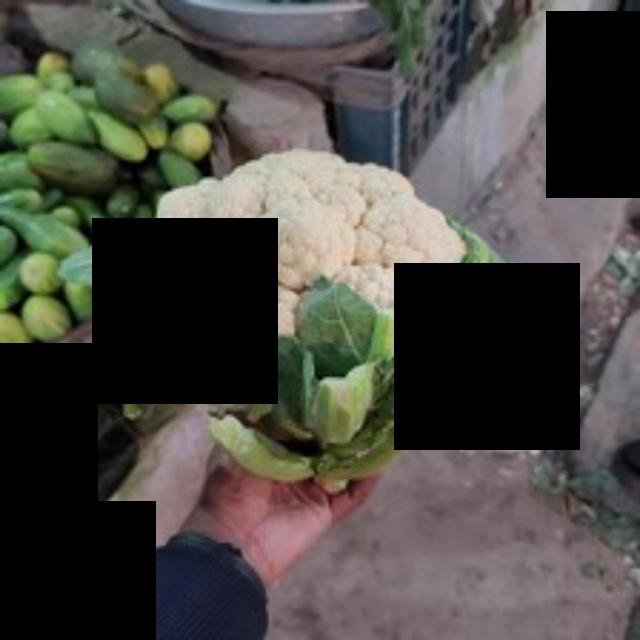cauliflower: (86, 132, 501, 405)
